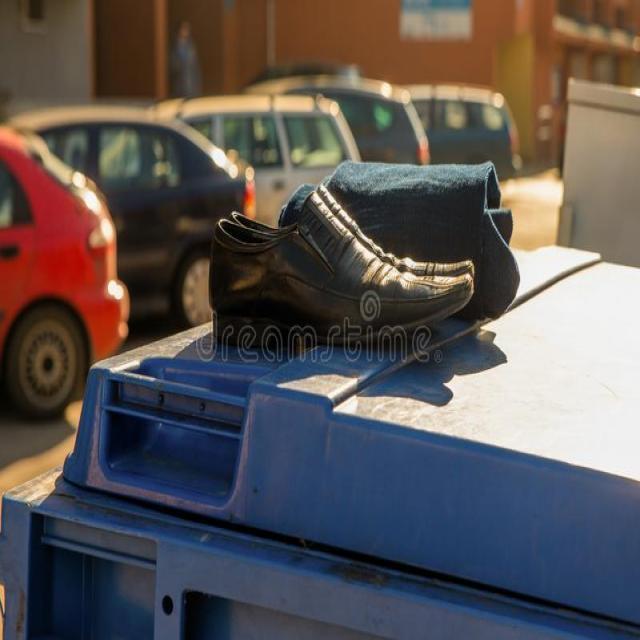clothes: (348, 144, 530, 268)
